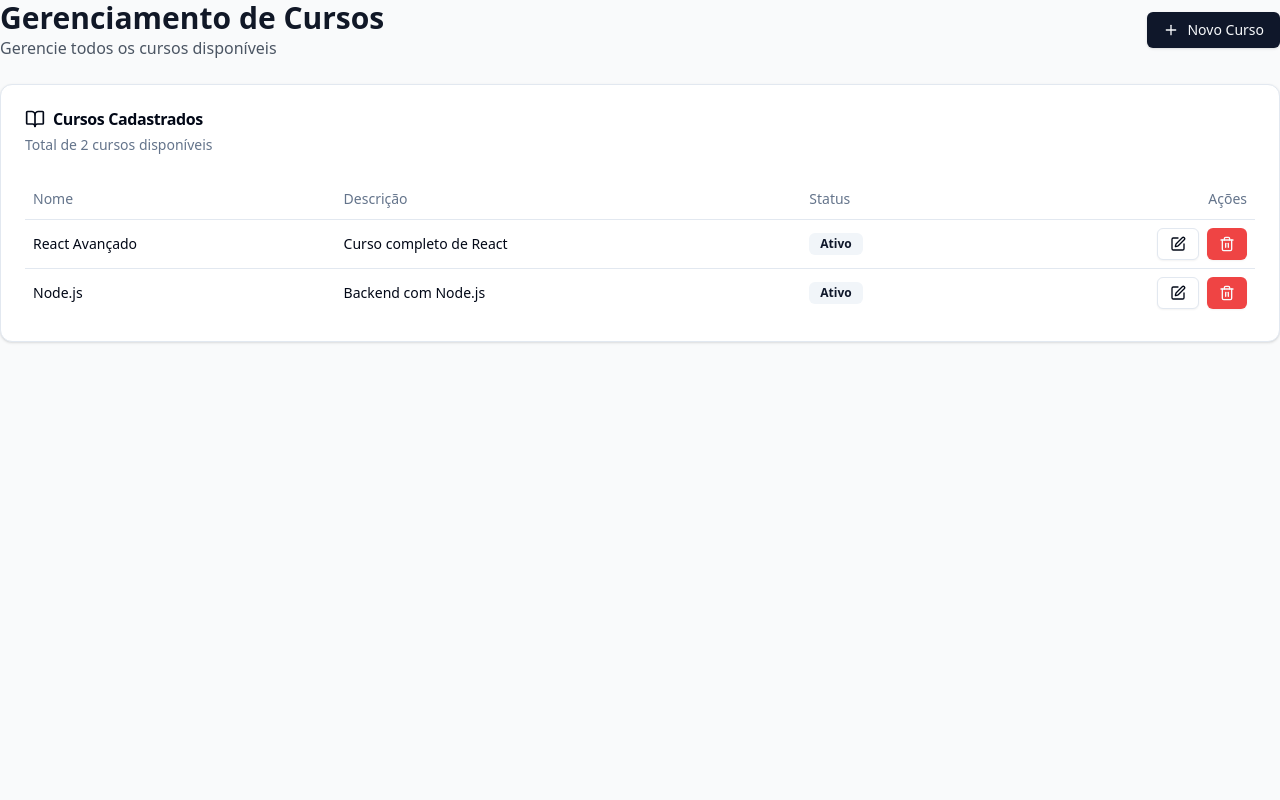
Test: CursosPage › deve mostrar modal de confirmação ao excluir curso
Expected: the text "React Avançado" is shown, 25,219 -> 336,268
Click the 3rd button at (1227, 244), box 1207,228 -> 1247,260
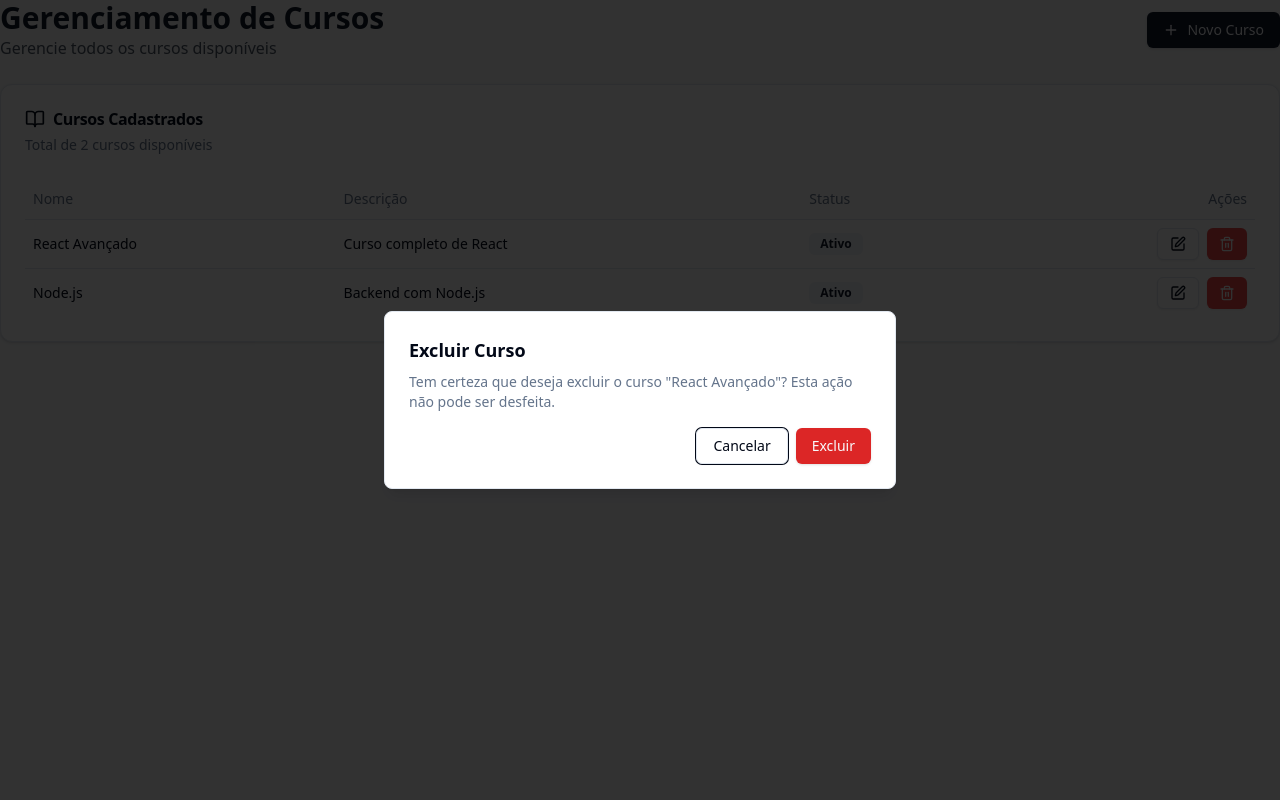
Result: the heading "Excluir Curso" is shown at 409,338 -> 526,362
